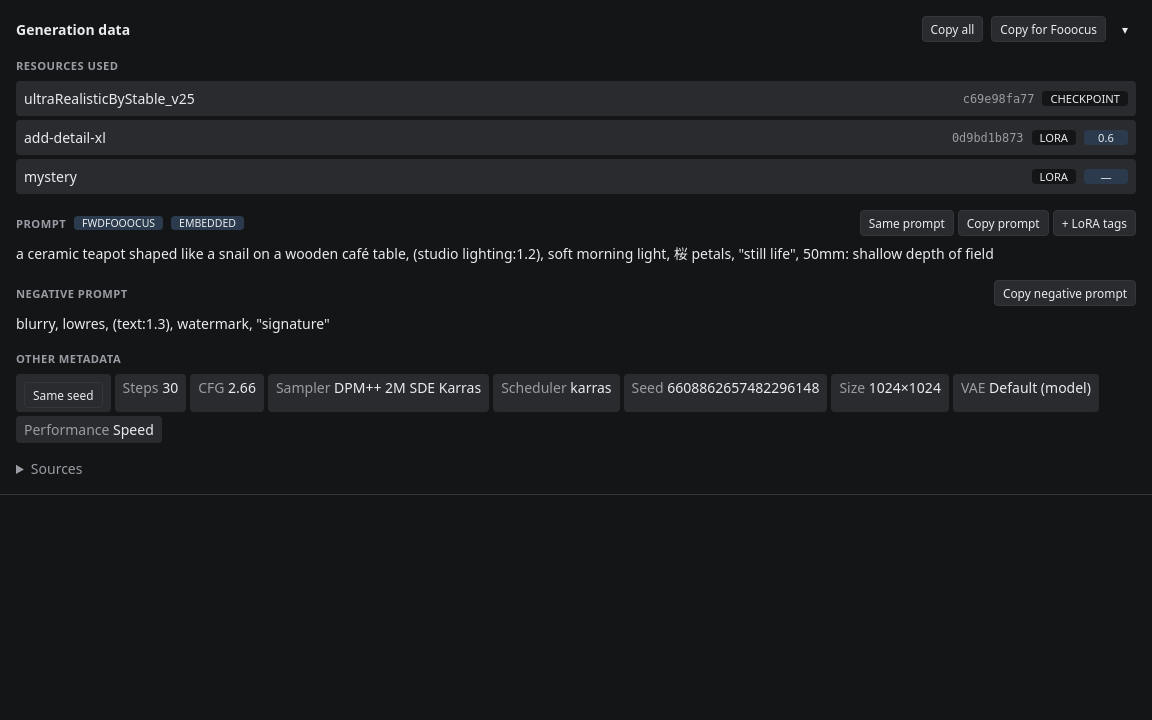
Test: GenerationPanel › collapses its body from the header
Click the button named "Generation data details": (1125, 29) [1114,17,1136,41]
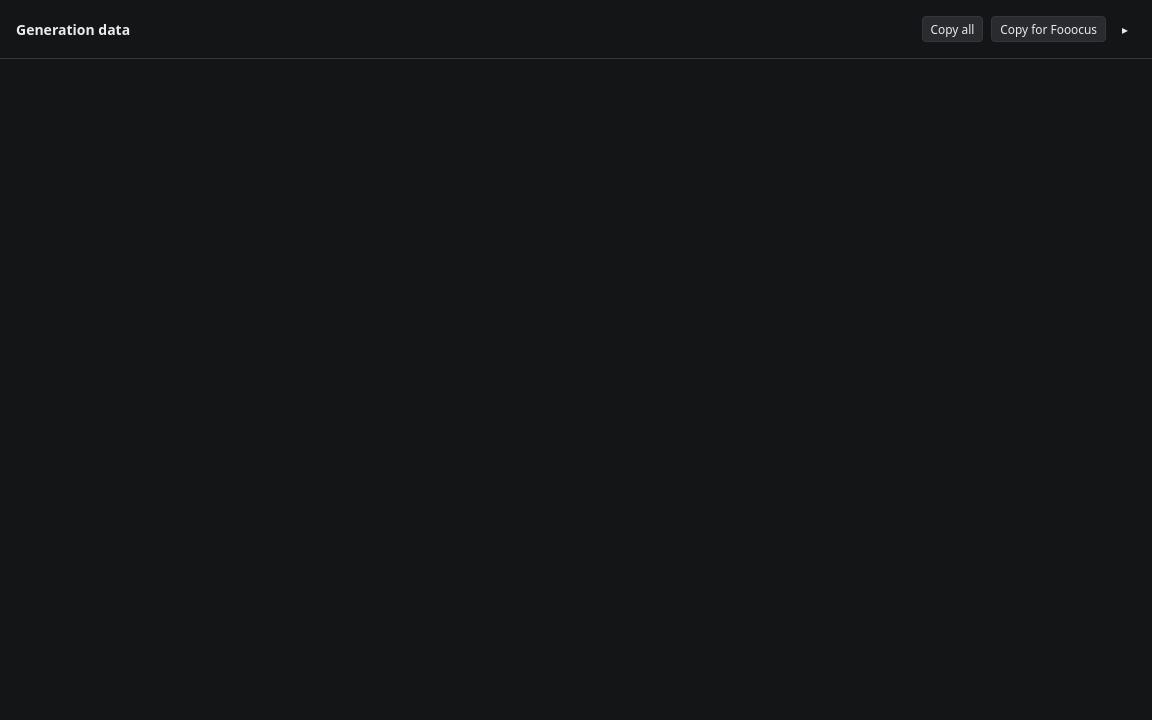
Expected: the button named "Generation data details" is collapsed, [1114,17,1136,41]
Expected: the heading "Prompt" is gone
